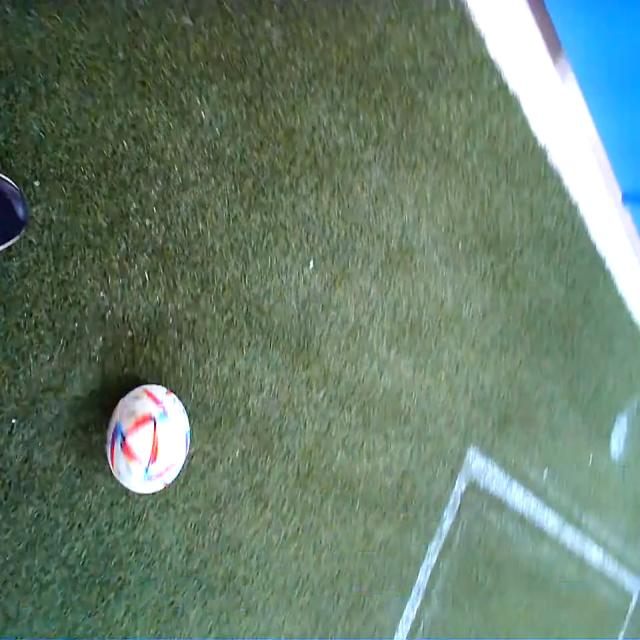ball: (107, 382, 190, 494)
